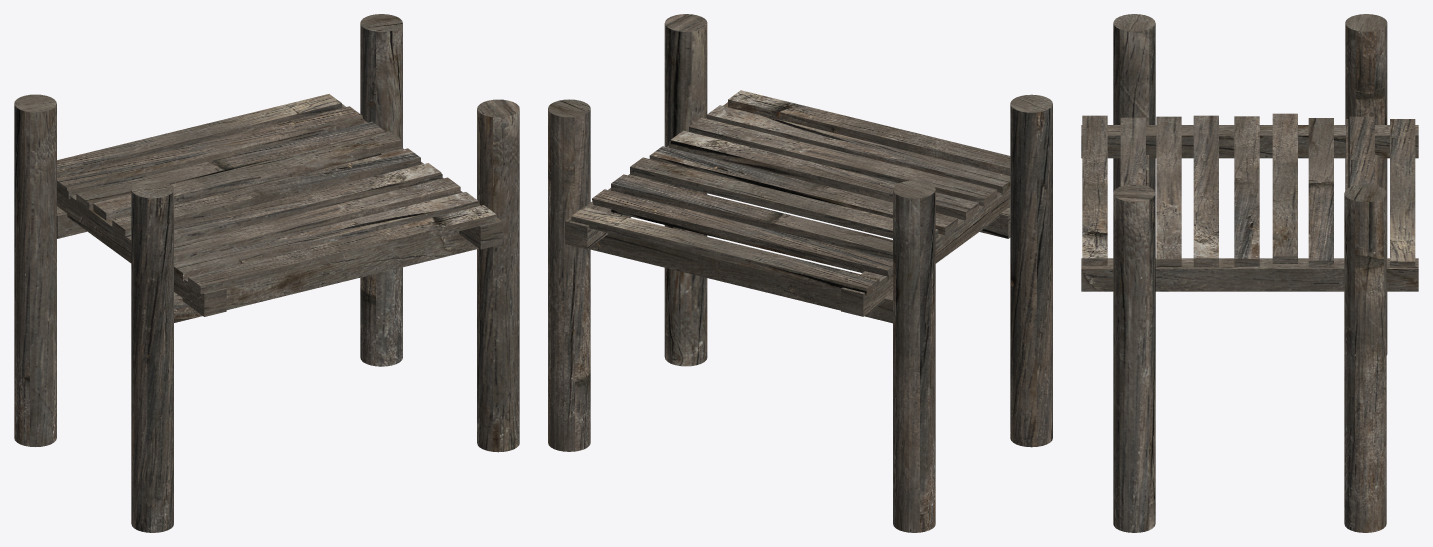
Rendered from Plataforma.fbx.
3 views of the same model, side by side, from view 1: azimuth 30°, elevation 25°; view 2: azimuth 150°, elevation 25°; view 3: azimuth 270°, elevation 25° (orthographic).
Parts seen in each view (by area): view 1: Plataforma Tablas, Columna4, Columna3, Columna2; view 2: Plataforma Tablas, Columna4, Columna3, Columna2; view 3: Plataforma Tablas, Columna4, Columna2, Columna3.
Boxes of the visible parts, x1=… form: Plataforma Tablas: x1=56, y1=94, x2=502, y2=316; Columna4: x1=131, y1=99, x2=519, y2=532; Columna3: x1=14, y1=94, x2=56, y2=446; Columna2: x1=360, y1=14, x2=402, y2=366; Plataforma Tablas: x1=565, y1=90, x2=1010, y2=323; Columna4: x1=664, y1=14, x2=1052, y2=447; Columna3: x1=893, y1=180, x2=935, y2=532; Columna2: x1=548, y1=99, x2=590, y2=451; Plataforma Tablas: x1=1081, y1=113, x2=1418, y2=291; Columna4: x1=1113, y1=14, x2=1155, y2=532; Columna2: x1=1344, y1=184, x2=1386, y2=532; Columna3: x1=1345, y1=14, x2=1387, y2=355.
Bounding box in the file's own units: 518 × 437 × 400.
2 materials, 2 textured.
